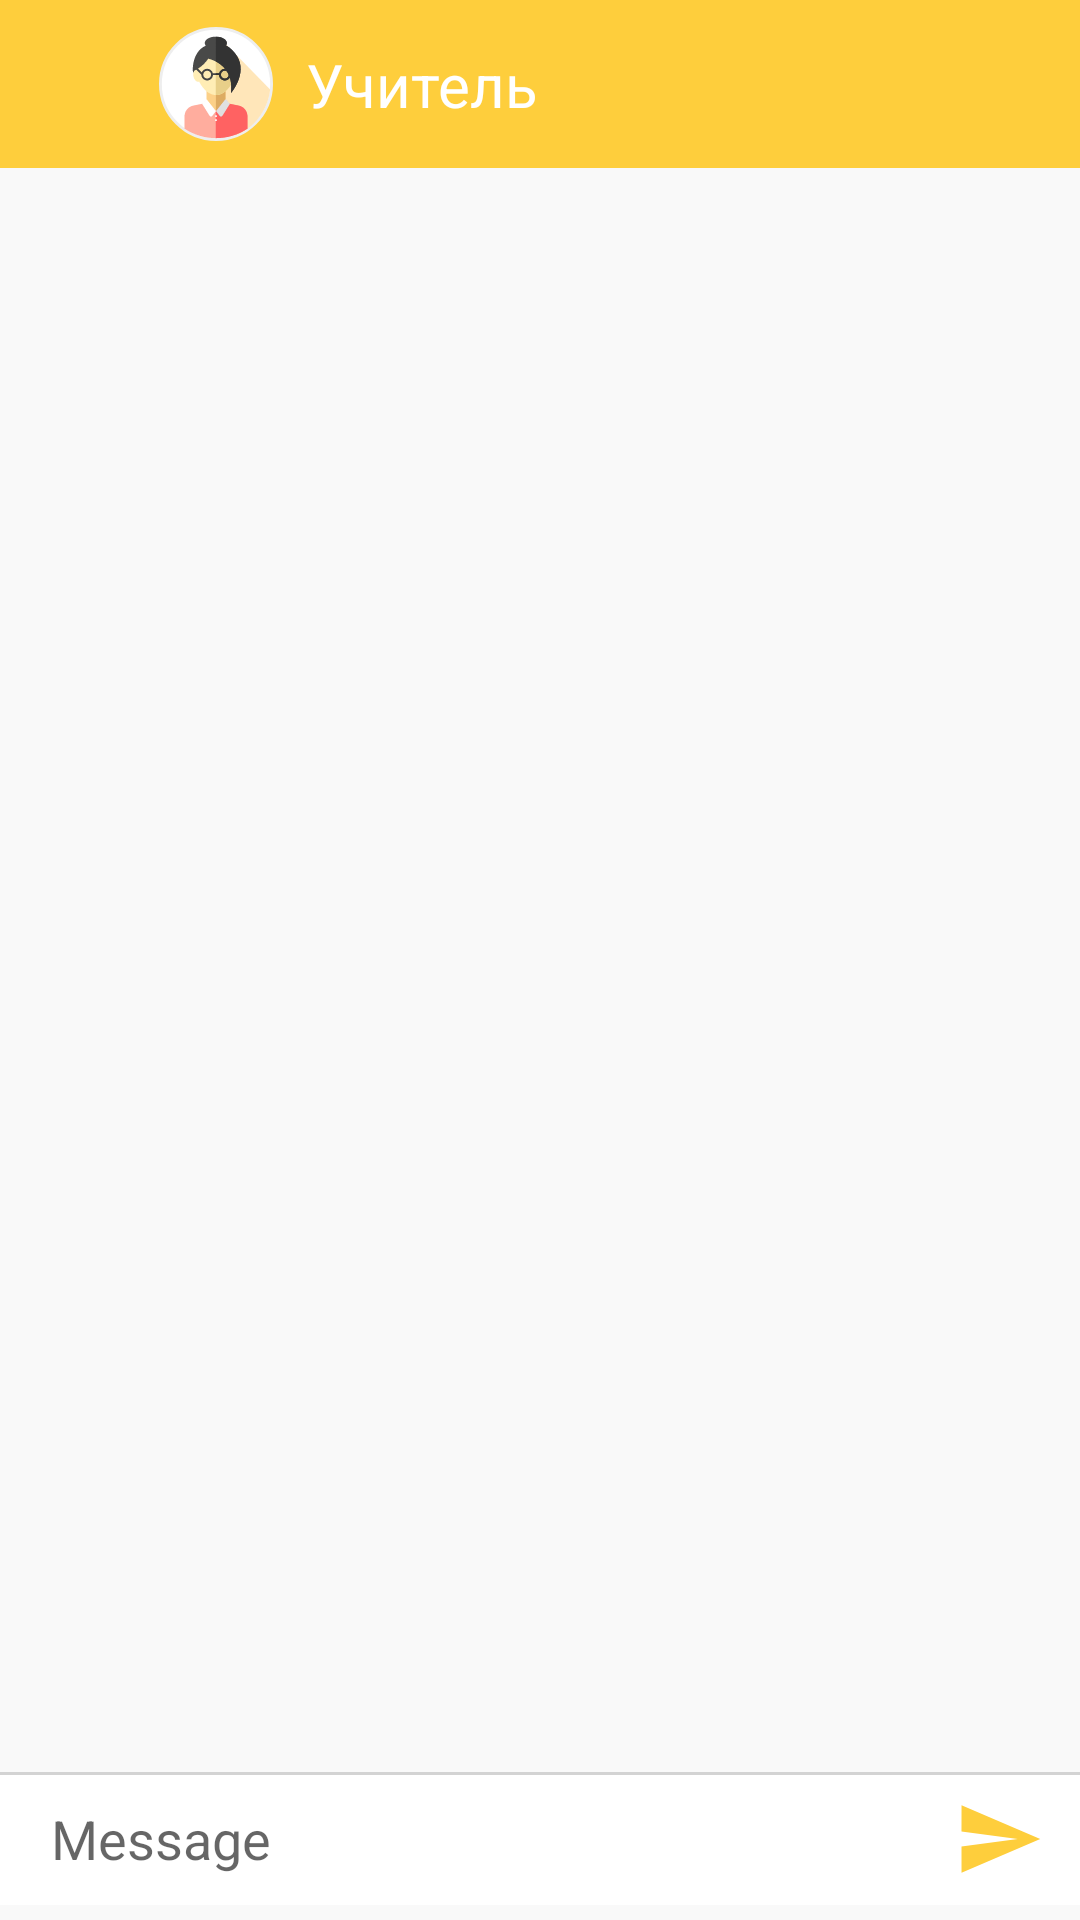

Named icons in this screenshot (1080px×1920px) and their centers, (x=x, y=y):
send: (x=1000, y=1839)
